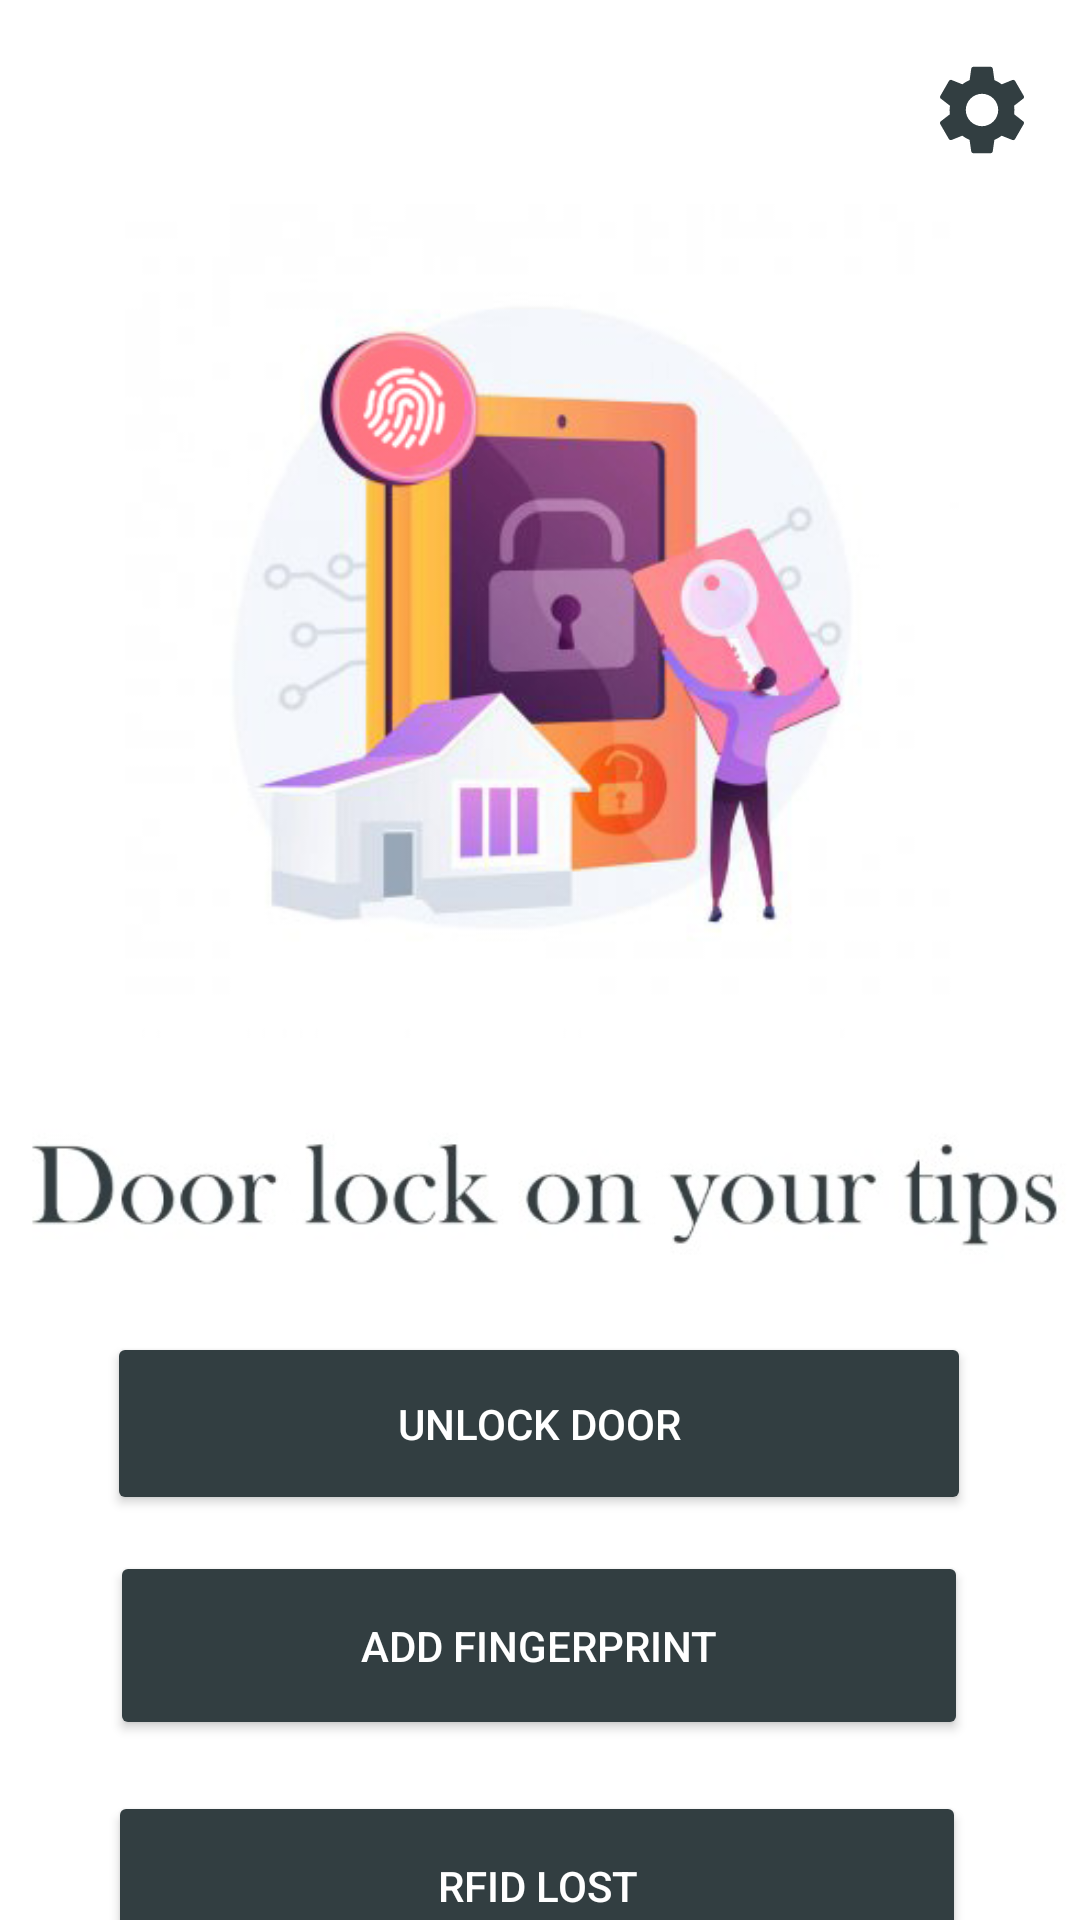

Screen size 1080x1920. Icon name, then its box in pixels as box(x1, y1, x2, y2):
settings: box(940, 66, 1024, 154)
